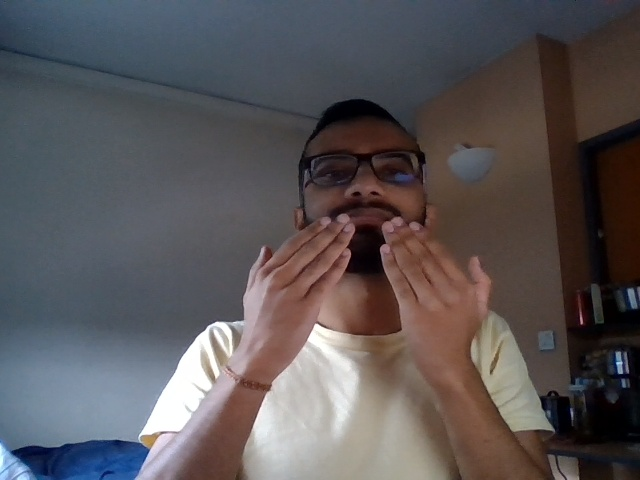Thanks: (223, 203, 507, 359)
